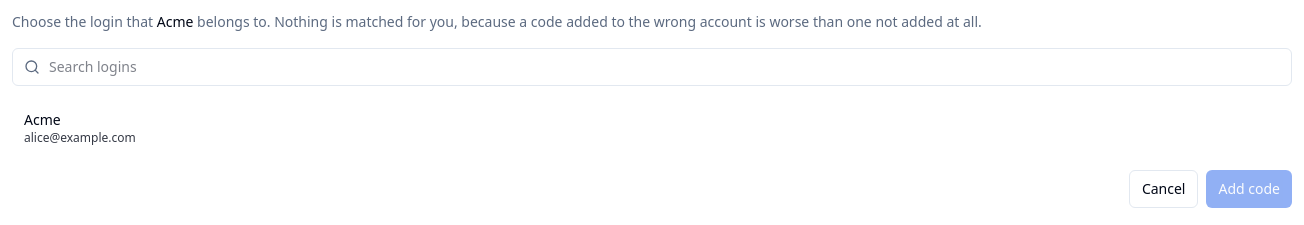
Test: the login picker › says so when nothing matches
Type "zzz" into the field with placeholder "Search logins" at (652, 67), box [12,48,1292,86]
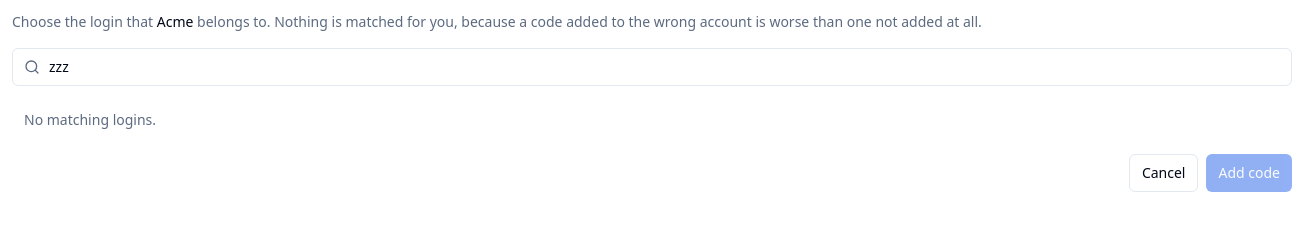
Result: the list item "No matching logins." is shown at [24,110,156,129]
